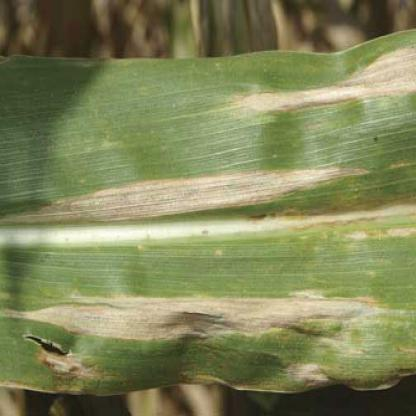corn leaf blight: (1, 40, 415, 391)
